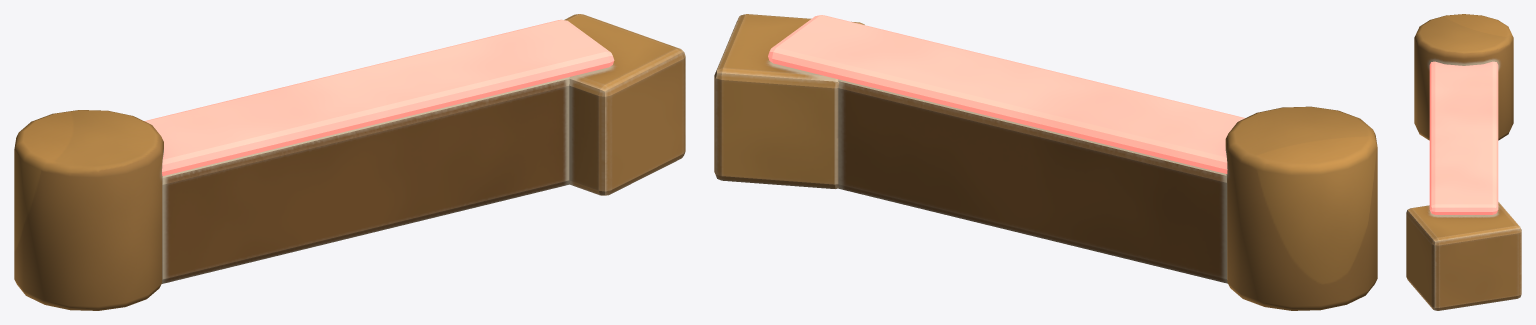
File: GF_Pawl.glb
3 renders of one model, left to right at view 1: azimuth 30°, elevation 25°; view 2: azimuth 150°, elevation 25°; view 3: azimuth 270°, elevation 25°, orthographic. The views are drawn at different scales.
Parts seen in each view (by area): view 1: GF_Pawl; view 2: GF_Pawl; view 3: GF_Pawl.
Part boxes in pixels (left/top/right/bottom): GF_Pawl: left=14, top=14, right=685, bottom=310; GF_Pawl: left=714, top=14, right=1377, bottom=310; GF_Pawl: left=1406, top=14, right=1521, bottom=310.
Size of the model in its own units: 2.55 by 0.55 by 0.6032.
Materials: 3 (3 with a texture image).
